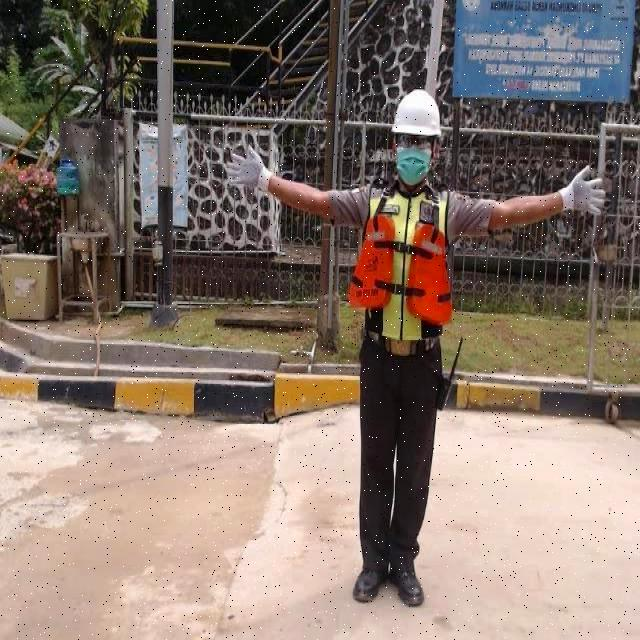Hard_hat: (388, 93, 449, 146)
Vest: (369, 188, 453, 344)
